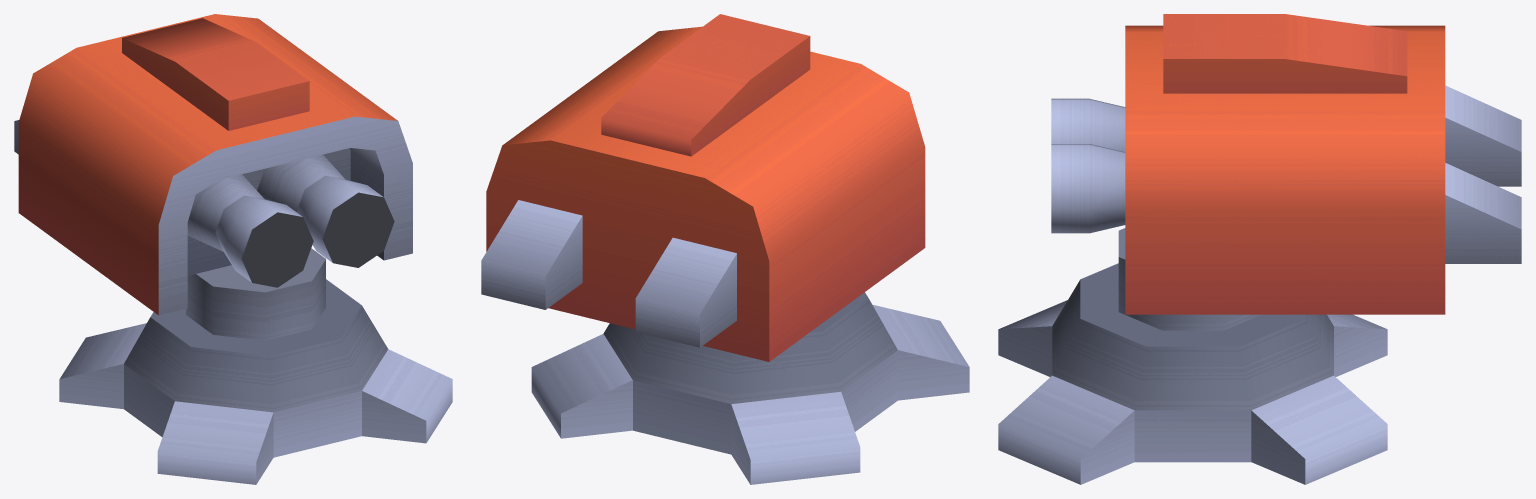
Rendered from weapon-turret.glb.
3 renders of one model, left to right at view 1: azimuth 30°, elevation 25°; view 2: azimuth 150°, elevation 25°; view 3: azimuth 270°, elevation 25°, orthographic. The views are drawn at different scales.
Visible parts, largest first — view 1: weapon-turret.001, weapon-turret; view 2: weapon-turret.001, weapon-turret; view 3: weapon-turret.001, weapon-turret.
Part boxes in pixels (<box>): weapon-turret.001: <box>14,14,412,315</box>; weapon-turret: <box>59,248,452,484</box>; weapon-turret.001: <box>481,14,925,361</box>; weapon-turret: <box>531,292,969,484</box>; weapon-turret.001: <box>1051,14,1521,314</box>; weapon-turret: <box>998,228,1387,484</box>.
Size of the model in its own units: 1.53 by 1.59 by 2.06.
Materials: 1 (1 with a texture image).
